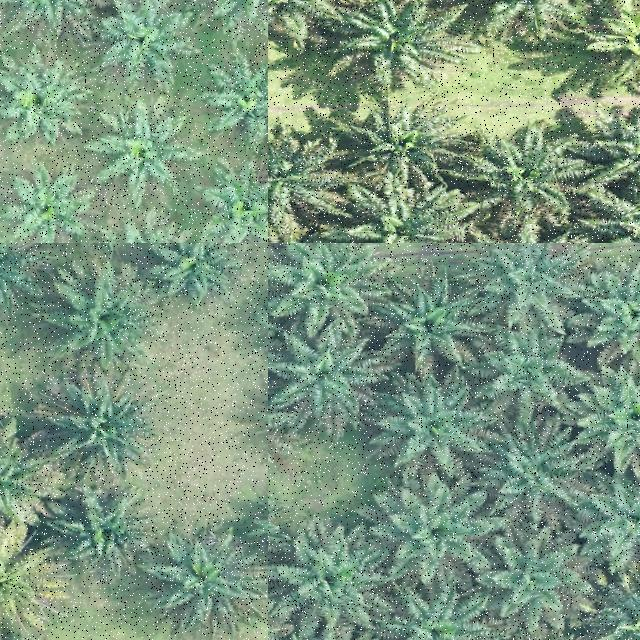Ganoderma: (0, 549, 37, 623)
